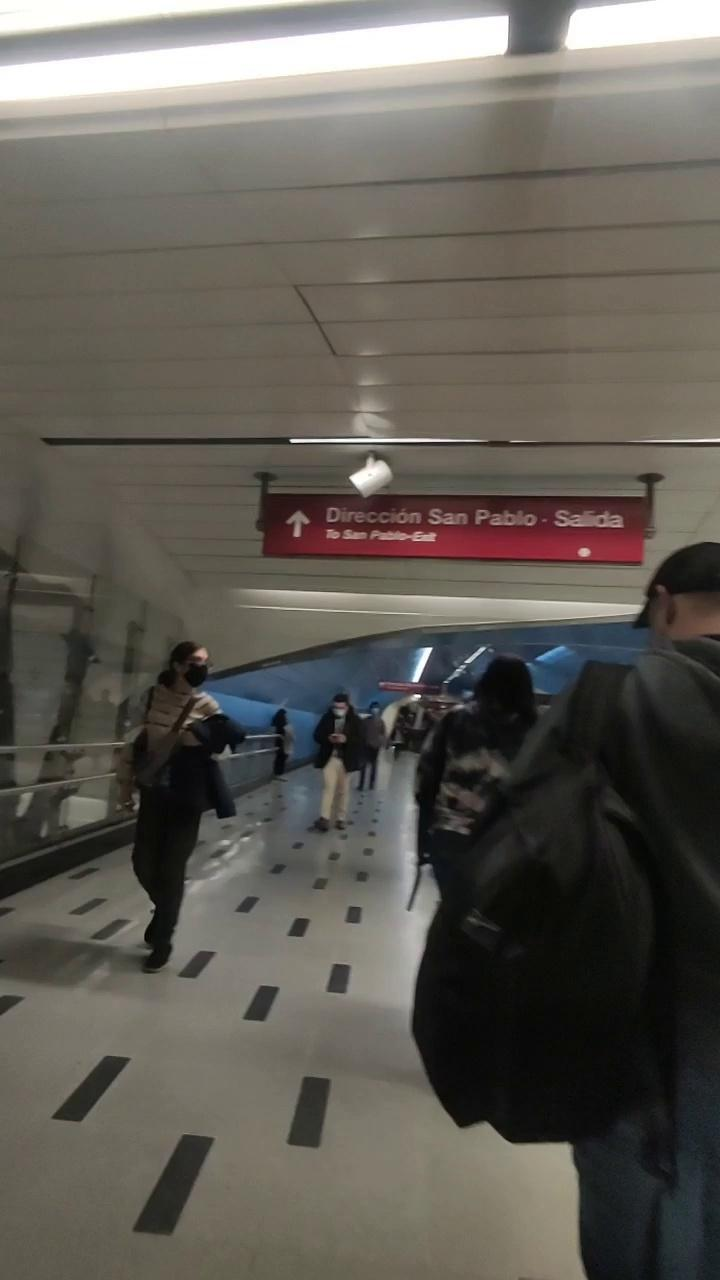up arrow: (279, 505, 319, 543)
